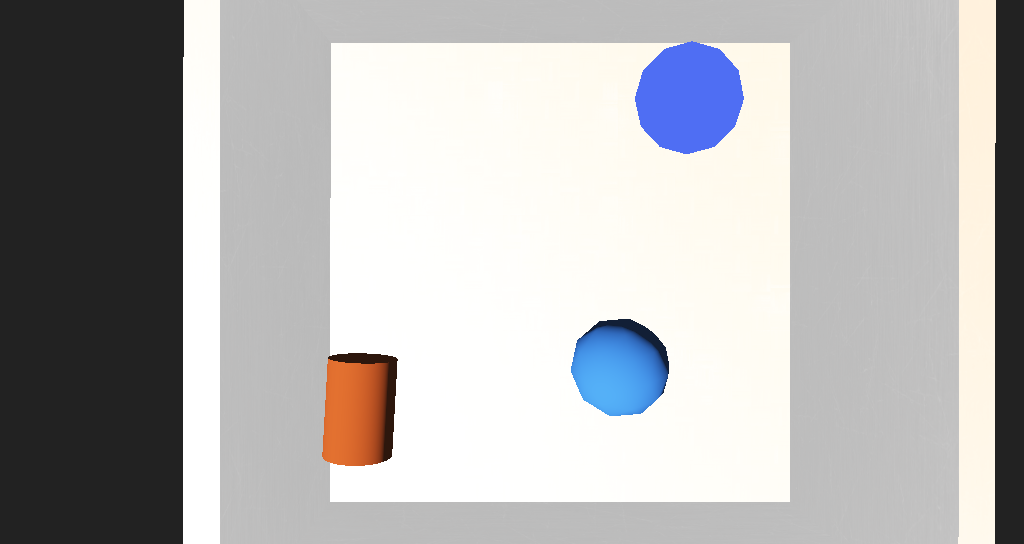cone: (347, 305, 408, 353)
cylinder: (546, 162, 613, 220)
sphere: (515, 286, 576, 334)
